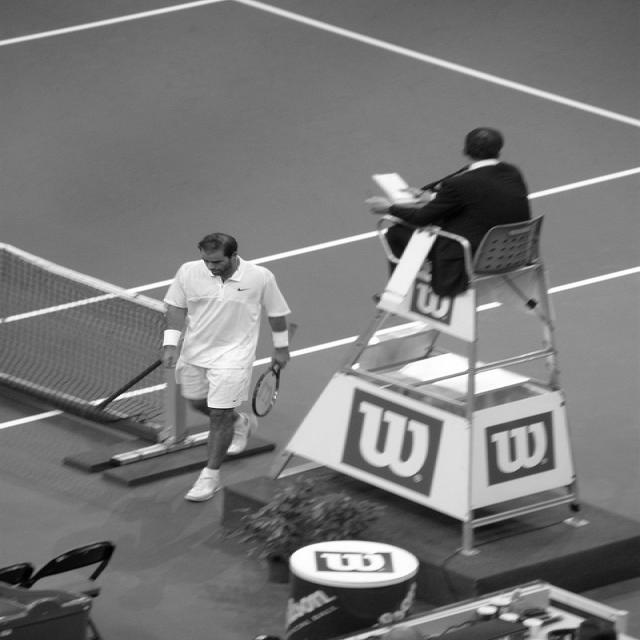monkey: (160, 235, 294, 516), (362, 122, 539, 298)
